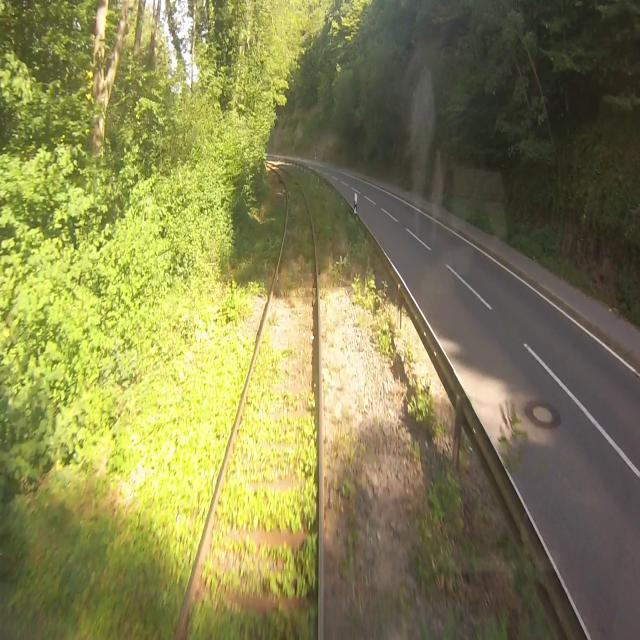Plant: (58, 270, 267, 633), (213, 310, 319, 528), (184, 528, 318, 639), (393, 485, 474, 639), (329, 408, 375, 596), (303, 171, 338, 233), (349, 586, 393, 635), (253, 234, 281, 273), (247, 154, 272, 191), (350, 272, 372, 313), (322, 251, 348, 285), (371, 314, 389, 356), (265, 204, 286, 231), (298, 229, 313, 260), (325, 359, 345, 382), (323, 326, 334, 344), (321, 285, 327, 302)
